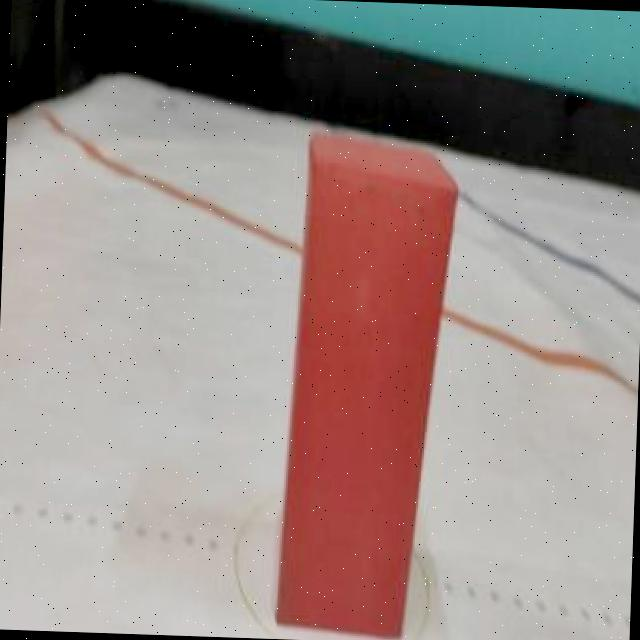greenbox: (273, 132, 462, 638)
